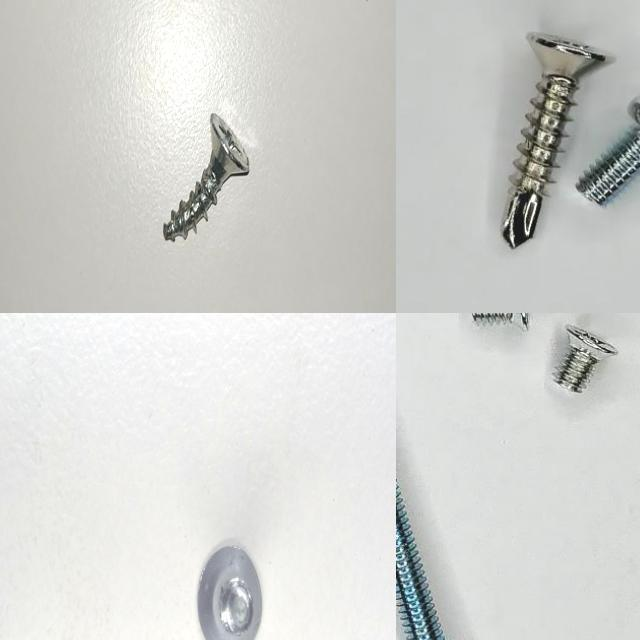Screw: (503, 32, 613, 249), (163, 113, 248, 241), (396, 479, 445, 640), (577, 101, 640, 206), (198, 546, 262, 640), (553, 326, 618, 393), (471, 313, 530, 330)
